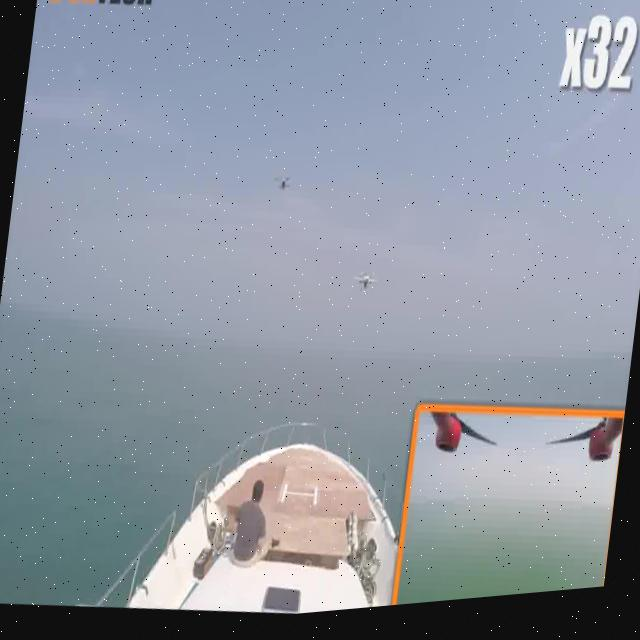drone: (348, 265, 382, 315), (267, 168, 301, 210)
